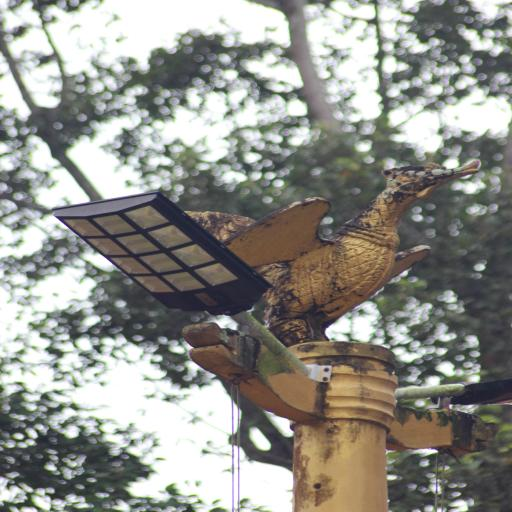than: (220, 148, 492, 339)
